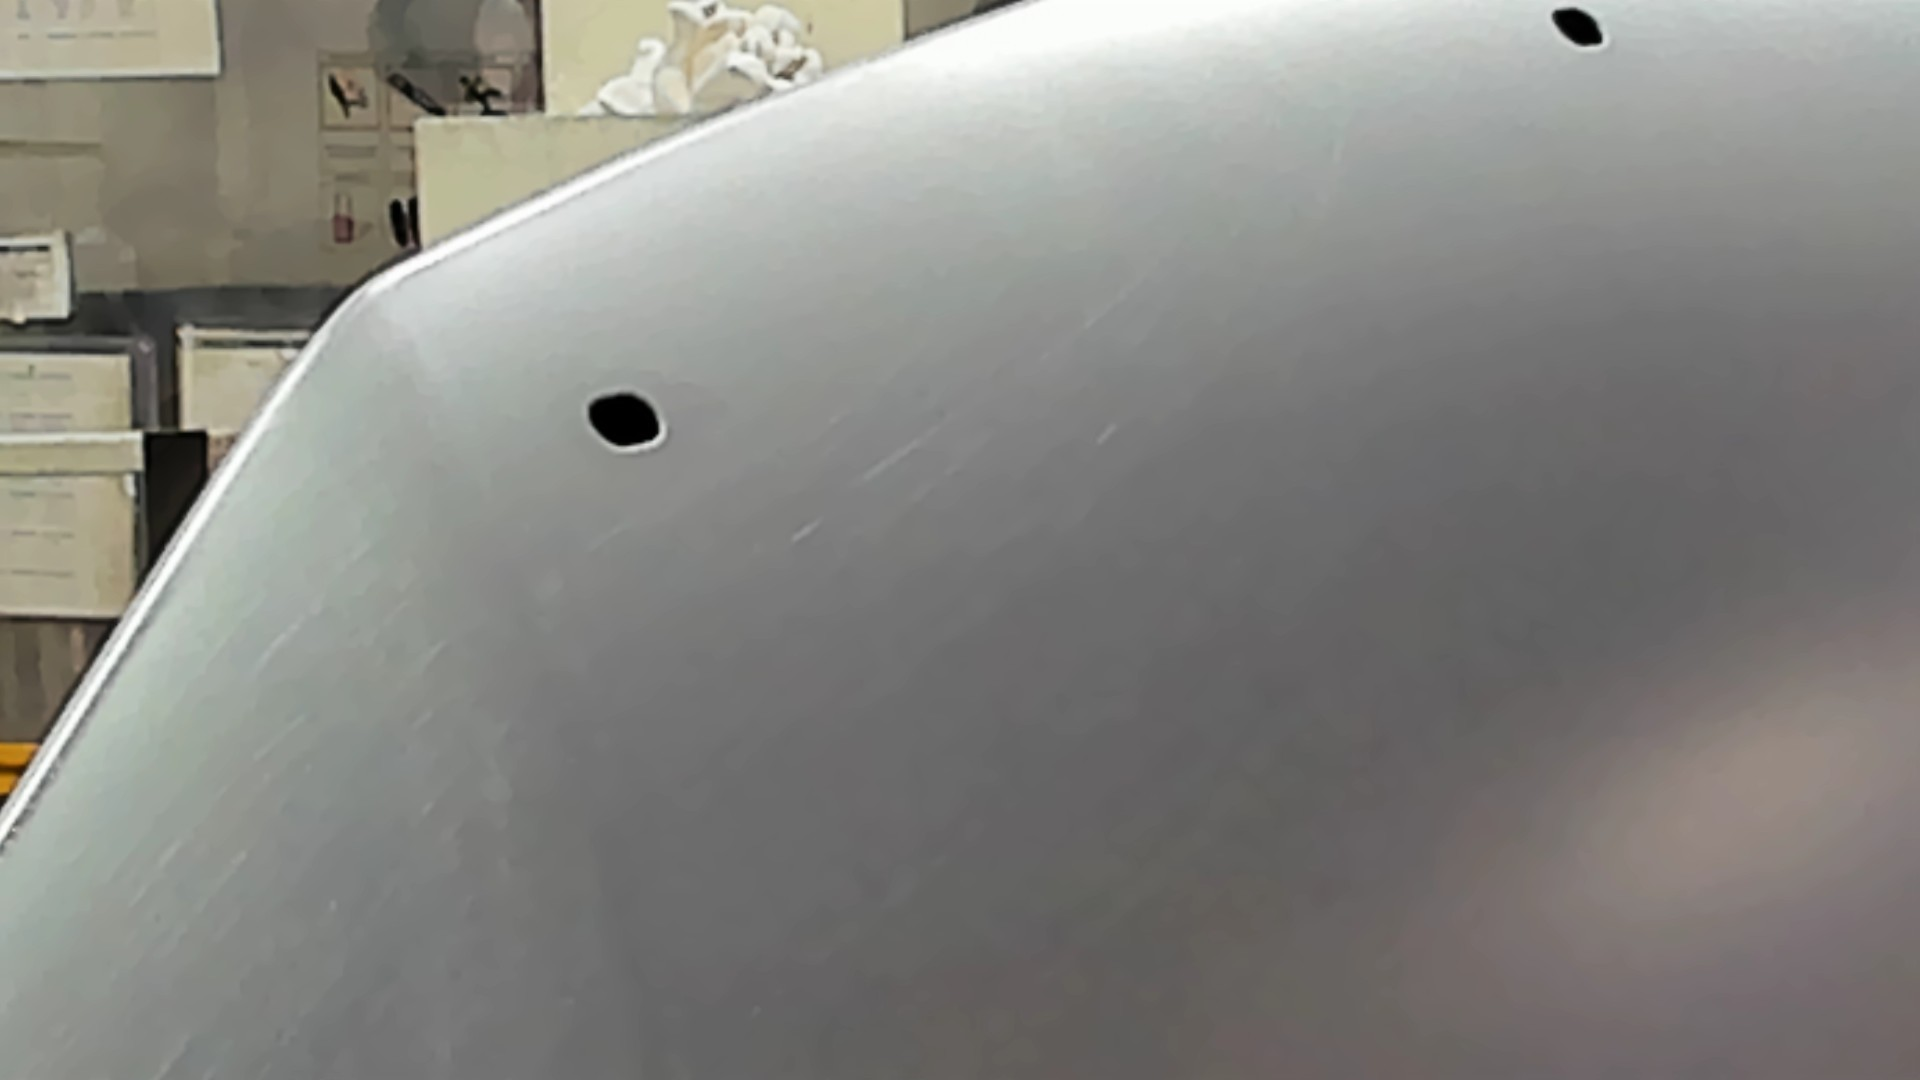amorfo: (579, 386, 670, 458), (1542, 1, 1615, 54)
capo: (824, 117, 1920, 1080)
